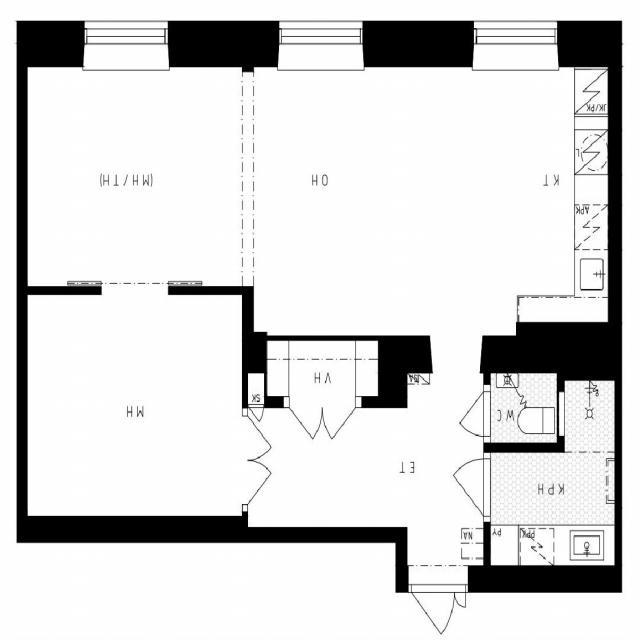door: (411, 565, 453, 640), (440, 458, 491, 515), (322, 395, 355, 451), (289, 395, 322, 451), (450, 390, 490, 436), (242, 416, 280, 460), (242, 460, 280, 503), (454, 565, 465, 607), (249, 404, 263, 426)
